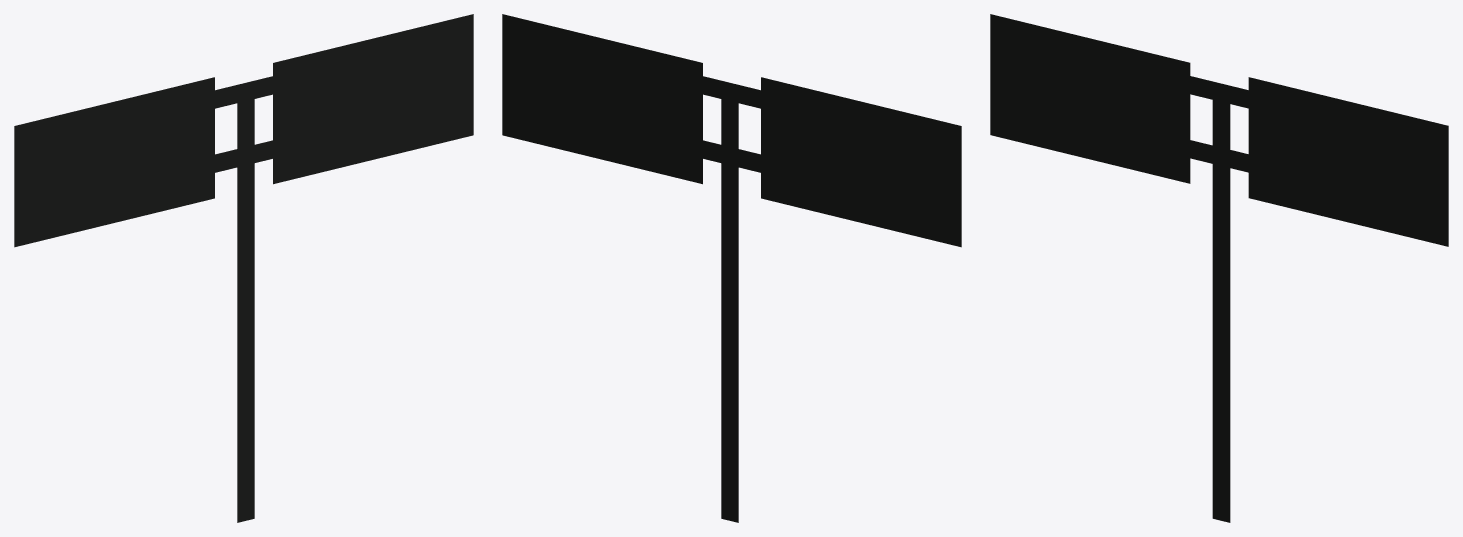
Rendered from AMB_NK_LORD_KANBAN.glb.
3 renders of one model, left to right at view 1: azimuth 30°, elevation 25°; view 2: azimuth 150°, elevation 25°; view 3: azimuth 330°, elevation 25°, orthographic.
Parts seen in each view (by area): view 1: BASE; view 2: BASE; view 3: BASE.
Boxes of the visible parts, box(x1,y1,x2,y2) form: BASE: box(14, 14, 473, 522); BASE: box(502, 14, 961, 522); BASE: box(990, 14, 1448, 522).
Size of the model in its own units: 29.09 by 27.31 by 0.
Materials: 1 (1 with a texture image).
